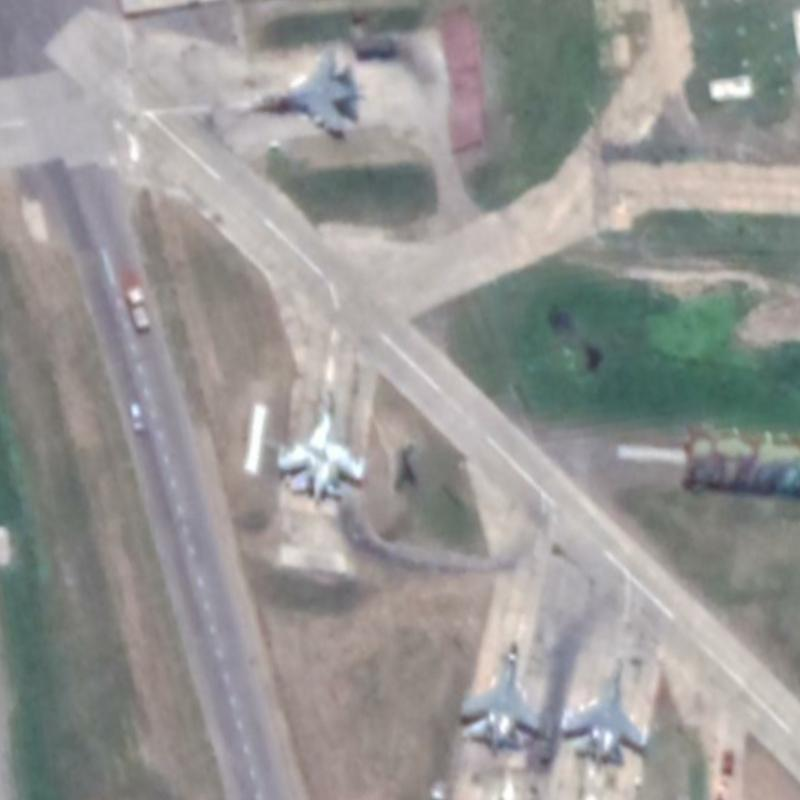A1: (233, 43, 360, 136), (273, 381, 368, 505), (557, 655, 648, 769), (455, 638, 542, 755)
